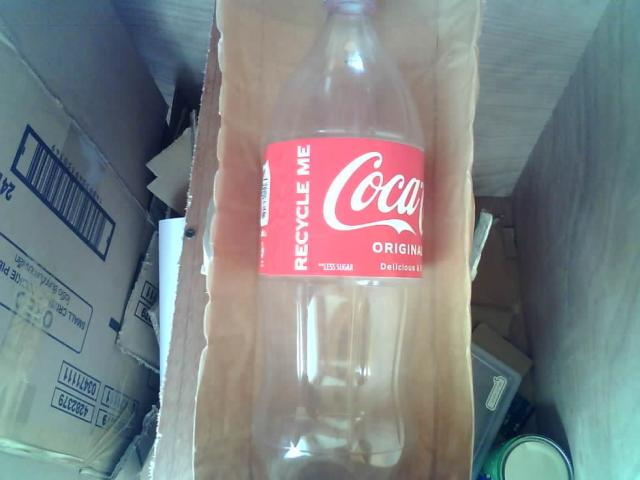large_bottle: (237, 0, 433, 480)
